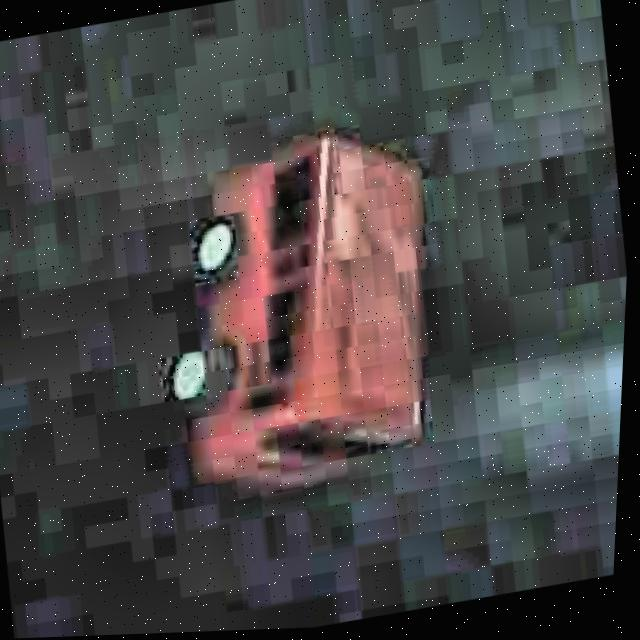bus: (109, 107, 485, 521)
